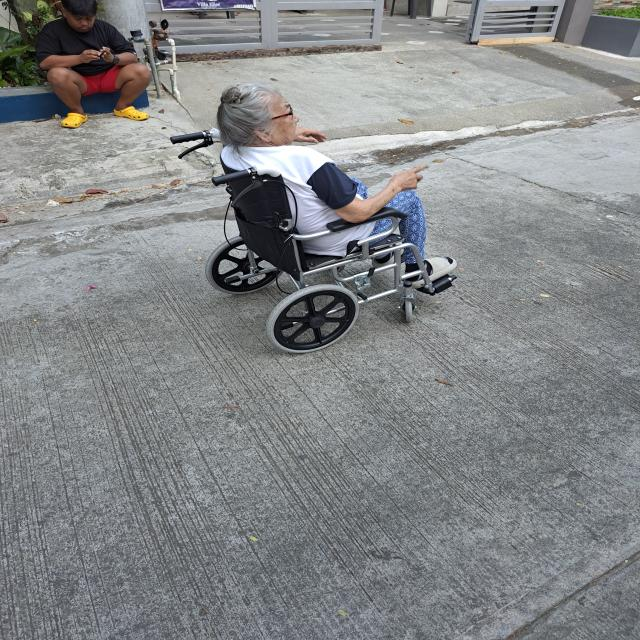wheelchairs: (163, 126, 459, 360)
